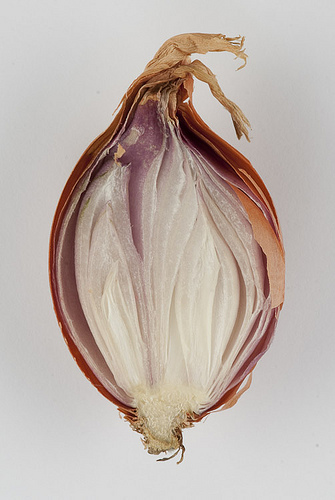onion: (46, 30, 287, 466)
